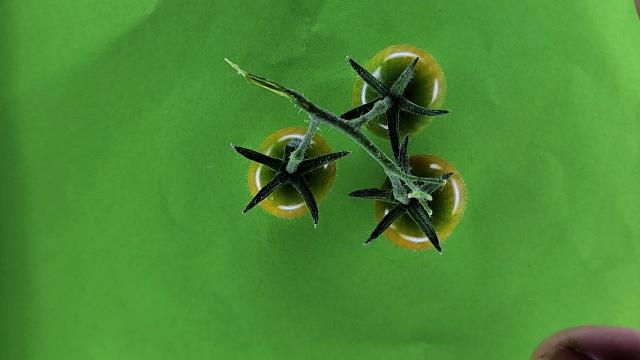Fully Grown: (352, 45, 447, 142), (373, 154, 466, 251), (247, 127, 337, 219)
